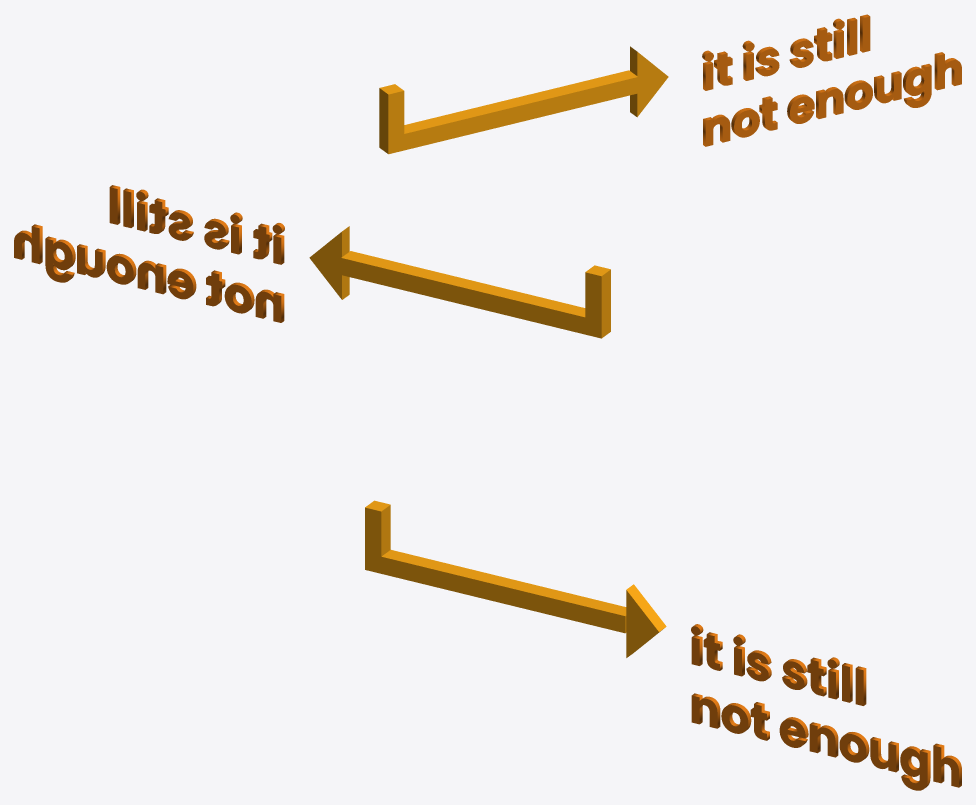
Rendered from yazison.gltf.
The picture shows the model from 3 angles, top to bottom: view 1: azimuth 30°, elevation 25°; view 2: azimuth 150°, elevation 25°; view 3: azimuth 330°, elevation 25°; orthographic projection. The views are drawn at different scales.
Parts seen in each view (by area): view 1: Text.084, Cube.102, Cube.101, Plane.062; view 2: Text.084, Cube.102, Cube.101, Plane.062; view 3: Text.084, Cube.102, Plane.062, Cube.101.
Part boxes in pixels (left/top/right/bottom): Text.084: left=702, top=14, right=961, bottom=146; Cube.102: left=404, top=70, right=638, bottom=150; Cube.101: left=379, top=84, right=404, bottom=154; Plane.062: left=630, top=46, right=668, bottom=117; Text.084: left=14, top=185, right=284, bottom=322; Cube.102: left=341, top=251, right=585, bottom=334; Cube.101: left=585, top=265, right=610, bottom=338; Plane.062: left=309, top=226, right=349, bottom=299; Text.084: left=691, top=624, right=961, bottom=790; Cube.102: left=381, top=550, right=626, bottom=633; Plane.062: left=626, top=584, right=666, bottom=657; Cube.101: left=365, top=500, right=390, bottom=573.
Bounding box in the file's own units: 0.5881 × 0.0919 × 0.0229.
